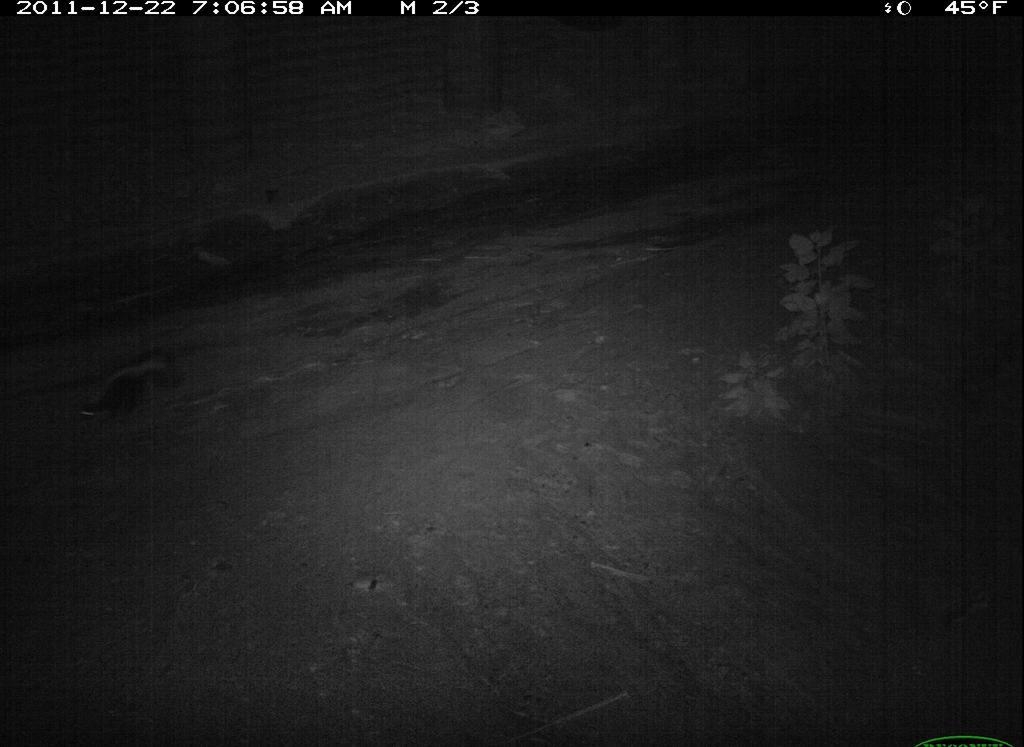skunk: (73, 340, 186, 432)
